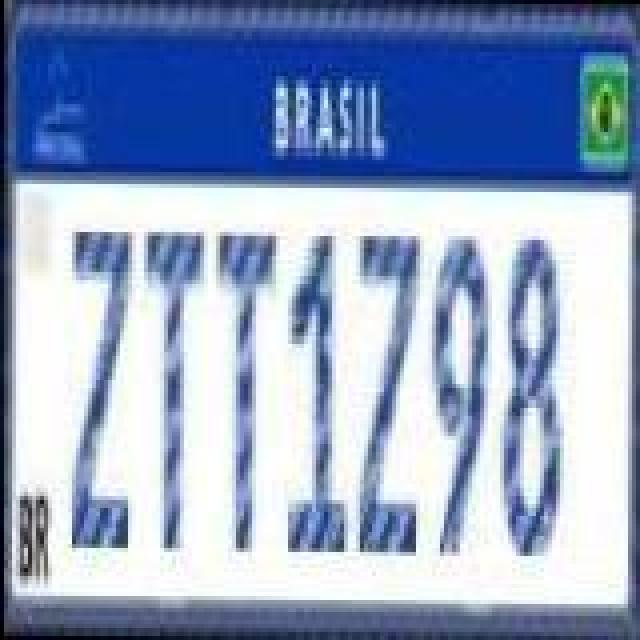1: (280, 224, 352, 560)
8: (494, 228, 562, 564)
9: (424, 222, 488, 558)
T: (210, 222, 278, 558), (140, 228, 204, 552)
Z: (66, 220, 134, 556), (354, 226, 422, 562)
